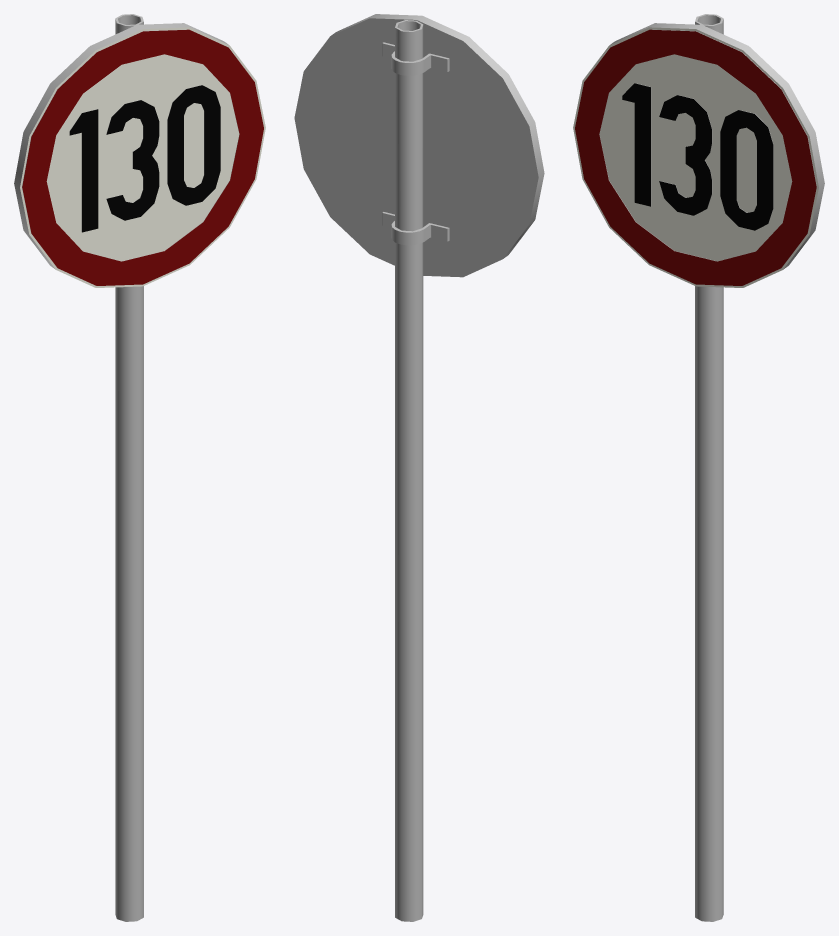
3 renders of one model, left to right at view 1: azimuth 30°, elevation 25°; view 2: azimuth 150°, elevation 25°; view 3: azimuth 330°, elevation 25°, orthographic.
Parts seen in each view (by area): view 1: 130_MTL0.005, 130_DEFAULT_MTL.005, 130_MTL1.005, 130_MTL2.002; view 2: 130_DEFAULT_MTL.005; view 3: 130_MTL0.005, 130_DEFAULT_MTL.005, 130_MTL1.005, 130_MTL2.002.
Boxes of the visible parts, left/top/right/bottom form: 130_MTL0.005: left=20, top=27, right=265, bottom=287; 130_DEFAULT_MTL.005: left=14, top=14, right=239, bottom=921; 130_MTL1.005: left=22, top=29, right=263, bottom=285; 130_MTL2.002: left=69, top=85, right=220, bottom=232; 130_DEFAULT_MTL.005: left=294, top=14, right=544, bottom=921; 130_MTL0.005: left=573, top=27, right=818, bottom=287; 130_DEFAULT_MTL.005: left=599, top=14, right=824, bottom=921; 130_MTL1.005: left=575, top=29, right=816, bottom=285; 130_MTL2.002: left=622, top=83, right=773, bottom=230.
Bounding box in the file's own units: 603 × 2102 × 95.5.
